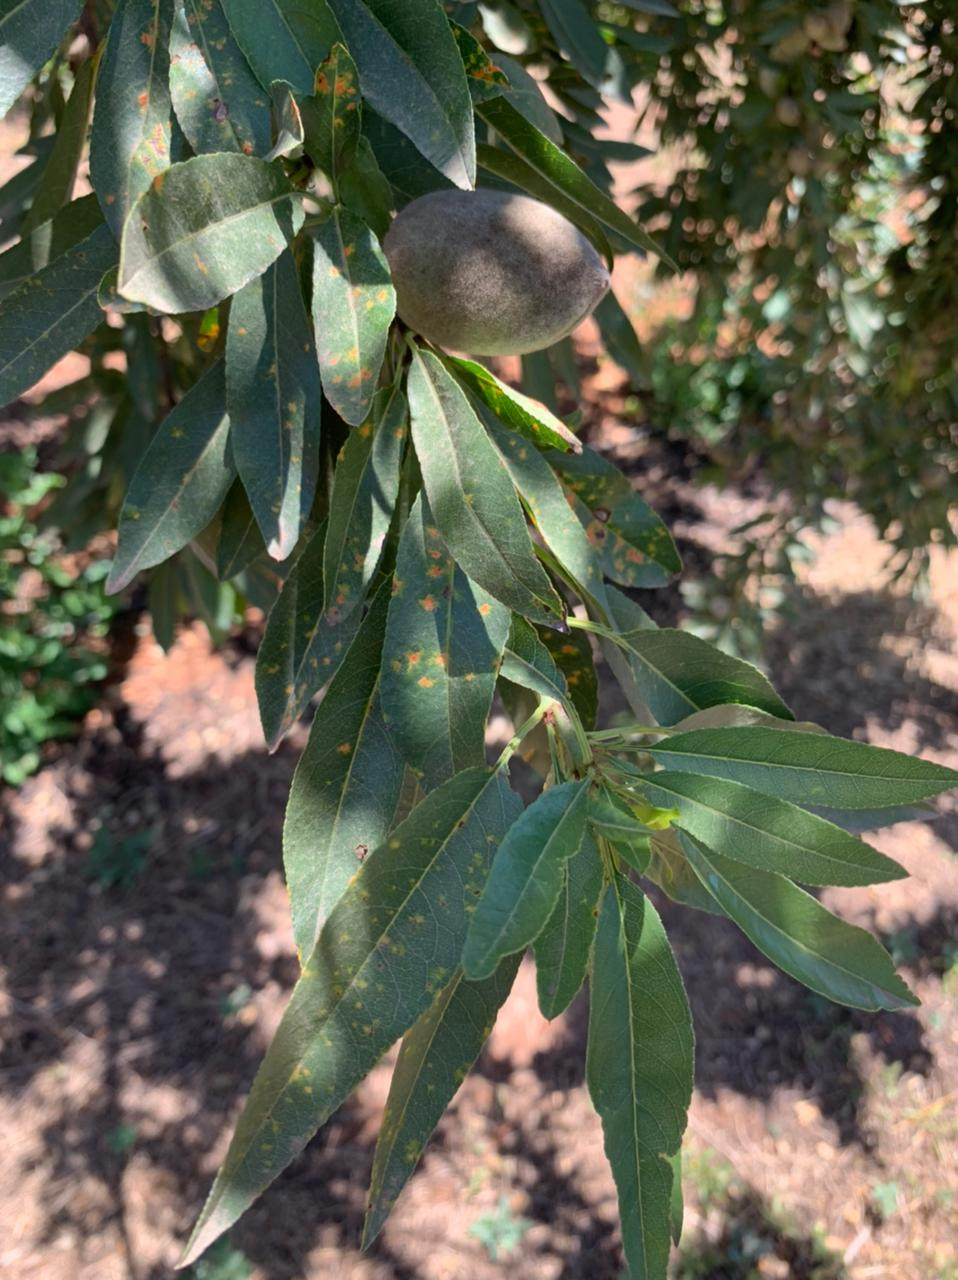polystigma: (173, 764, 533, 1269), (406, 345, 570, 633), (224, 248, 324, 563), (117, 153, 306, 315), (321, 373, 408, 631), (545, 444, 687, 595), (310, 196, 401, 426)
